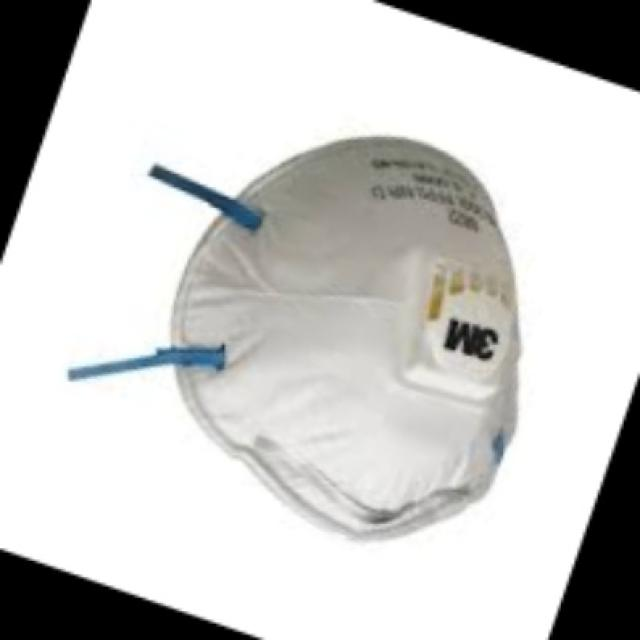B3: (135, 119, 524, 511)
